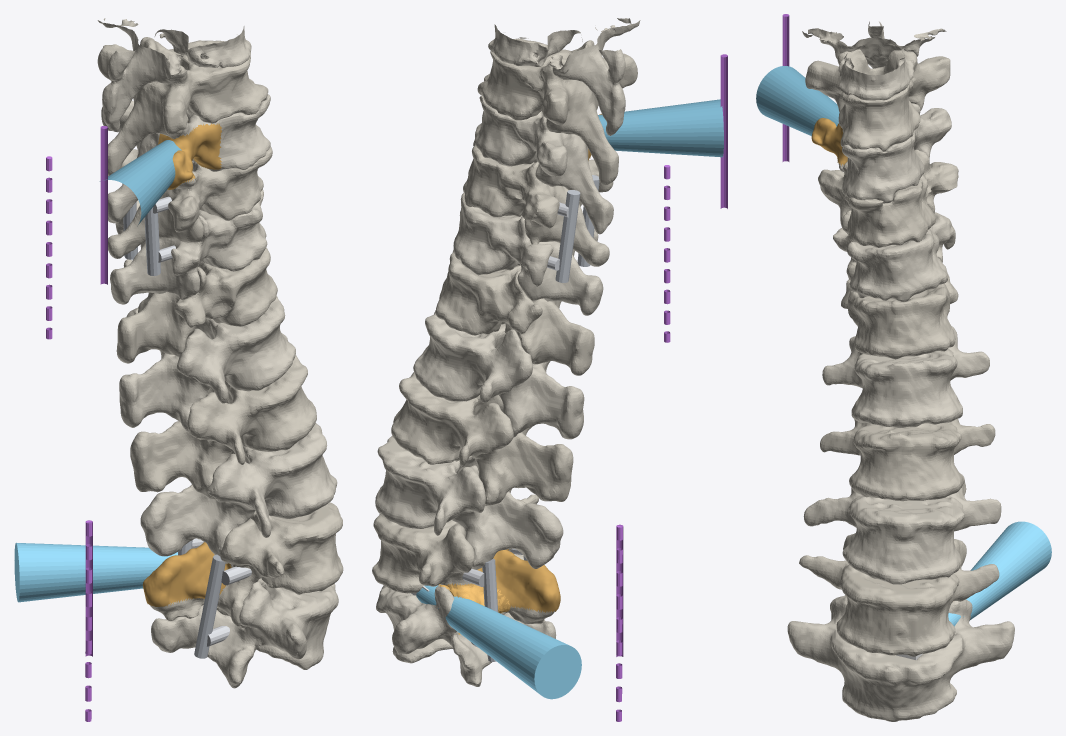
The model's file is case_spine_mets.glb.
3 views of the same model, side by side, from view 1: azimuth 30°, elevation 25°; view 2: azimuth 150°, elevation 25°; view 3: azimuth 270°, elevation 25° (orthographic). The views are drawn at different scales.
Visible parts, largest first — view 1: L3 vertebra (spine metastasis case), L2 vertebra (spine metastasis case), L1 vertebra (spine metastasis case), L5 vertebra (spine metastasis case), L4 vertebra (spine metastasis case), T8 vertebra (spine metastasis case), T12 vertebra (spine metastasis case), T11 vertebra (spine metastasis case), Approach: TLIF L4–L5 (left) — transforaminal corridor (Kambi, T10 vertebra (spine metastasis case), T7 vertebra (spine metastasis case), T9 vertebra (spine metastasis case) (+9 smaller); view 2: L2 vertebra (spine metastasis case), L3 vertebra (spine metastasis case), L1 vertebra (spine metastasis case), T12 vertebra (spine metastasis case), T8 vertebra (spine metastasis case), T11 vertebra (spine metastasis case), T10 vertebra (spine metastasis case), T9 vertebra (spine metastasis case), Approach: TLIF L4–L5 (left) — transforaminal corridor (Kambi, L4 vertebra (spine metastasis case), T7 vertebra (spine metastasis case), L5 vertebra (spine metastasis case) (+9 smaller); view 3: L5 vertebra (spine metastasis case), L3 vertebra (spine metastasis case), L4 vertebra (spine metastasis case), L2 vertebra (spine metastasis case), L1 vertebra (spine metastasis case), T8 vertebra (spine metastasis case), T12 vertebra (spine metastasis case), T10 vertebra (spine metastasis case), T11 vertebra (spine metastasis case), T9 vertebra (spine metastasis case), T7 vertebra (spine metastasis case), Approach: TLIF L4–L5 (left) — transforaminal corridor (Kambi (+3 smaller).
Boxes of the visible parts, box(x1,y1,x2,y2) form: L3 vertebra (spine metastasis case): box(140, 423, 337, 563); L2 vertebra (spine metastasis case): box(130, 355, 316, 500); L1 vertebra (spine metastasis case): box(119, 295, 295, 432); L5 vertebra (spine metastasis case): box(151, 578, 338, 688); L4 vertebra (spine metastasis case): box(150, 502, 343, 627); T8 vertebra (spine metastasis case): box(97, 37, 268, 175); T12 vertebra (spine metastasis case): box(116, 247, 277, 363); T11 vertebra (spine metastasis case): box(110, 189, 267, 304); Approach: TLIF L4–L5 (left) — transforaminal corridor (Kambi: box(14, 542, 177, 602); T10 vertebra (spine metastasis case): box(108, 146, 272, 258); T7 vertebra (spine metastasis case): box(97, 18, 251, 131); T9 vertebra (spine metastasis case): box(101, 94, 270, 223); L2 vertebra (spine metastasis case): box(391, 372, 573, 505); L3 vertebra (spine metastasis case): box(375, 436, 563, 569); L1 vertebra (spine metastasis case): box(413, 310, 584, 439); T12 vertebra (spine metastasis case): box(435, 250, 594, 375); T8 vertebra (spine metastasis case): box(477, 38, 637, 185); T11 vertebra (spine metastasis case): box(453, 193, 603, 315); T10 vertebra (spine metastasis case): box(463, 145, 613, 266); T9 vertebra (spine metastasis case): box(473, 95, 613, 234); Approach: TLIF L4–L5 (left) — transforaminal corridor (Kambi: box(416, 585, 581, 699); L4 vertebra (spine metastasis case): box(372, 494, 554, 623); T7 vertebra (spine metastasis case): box(488, 18, 640, 135); L5 vertebra (spine metastasis case): box(376, 554, 556, 686); L5 vertebra (spine metastasis case): box(787, 596, 1014, 721); L3 vertebra (spine metastasis case): box(803, 474, 1001, 584); L4 vertebra (spine metastasis case): box(799, 533, 999, 656); L2 vertebra (spine metastasis case): box(820, 418, 995, 501); L1 vertebra (spine metastasis case): box(822, 326, 989, 427); T8 vertebra (spine metastasis case): box(805, 49, 950, 151); T12 vertebra (spine metastasis case): box(841, 258, 958, 359); T10 vertebra (spine metastasis case): box(818, 149, 958, 247); T11 vertebra (spine metastasis case): box(833, 210, 955, 301); T9 vertebra (spine metastasis case): box(838, 103, 951, 203); T7 vertebra (spine metastasis case): box(802, 21, 946, 100); Approach: TLIF L4–L5 (left) — transforaminal corridor (Kambi: box(948, 521, 1051, 626).
Bounding box in the file's own units: 138 × 300 × 127.
